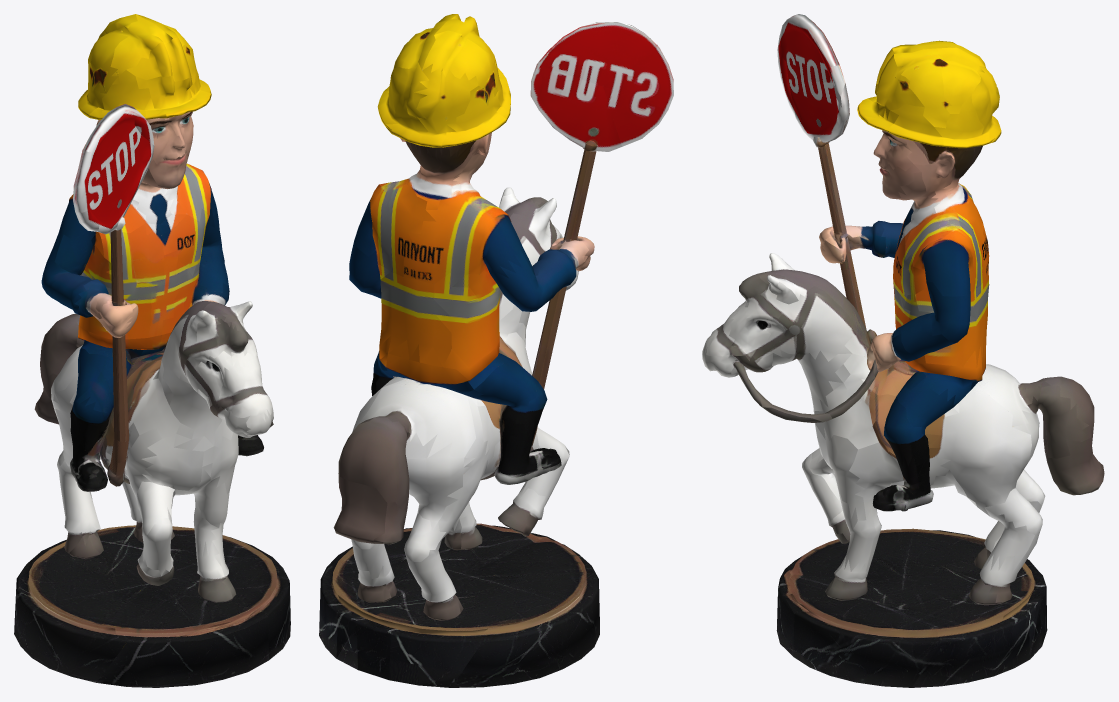
The model's file is left-knight.glb.
The picture shows the model from 3 angles, left to right: view 1: azimuth 30°, elevation 25°; view 2: azimuth 150°, elevation 25°; view 3: azimuth 270°, elevation 25°; orthographic projection. The views are drawn at different scales.
Size of the model in its own units: 0.4648 by 1 by 0.623.
1 material, 1 textured.
